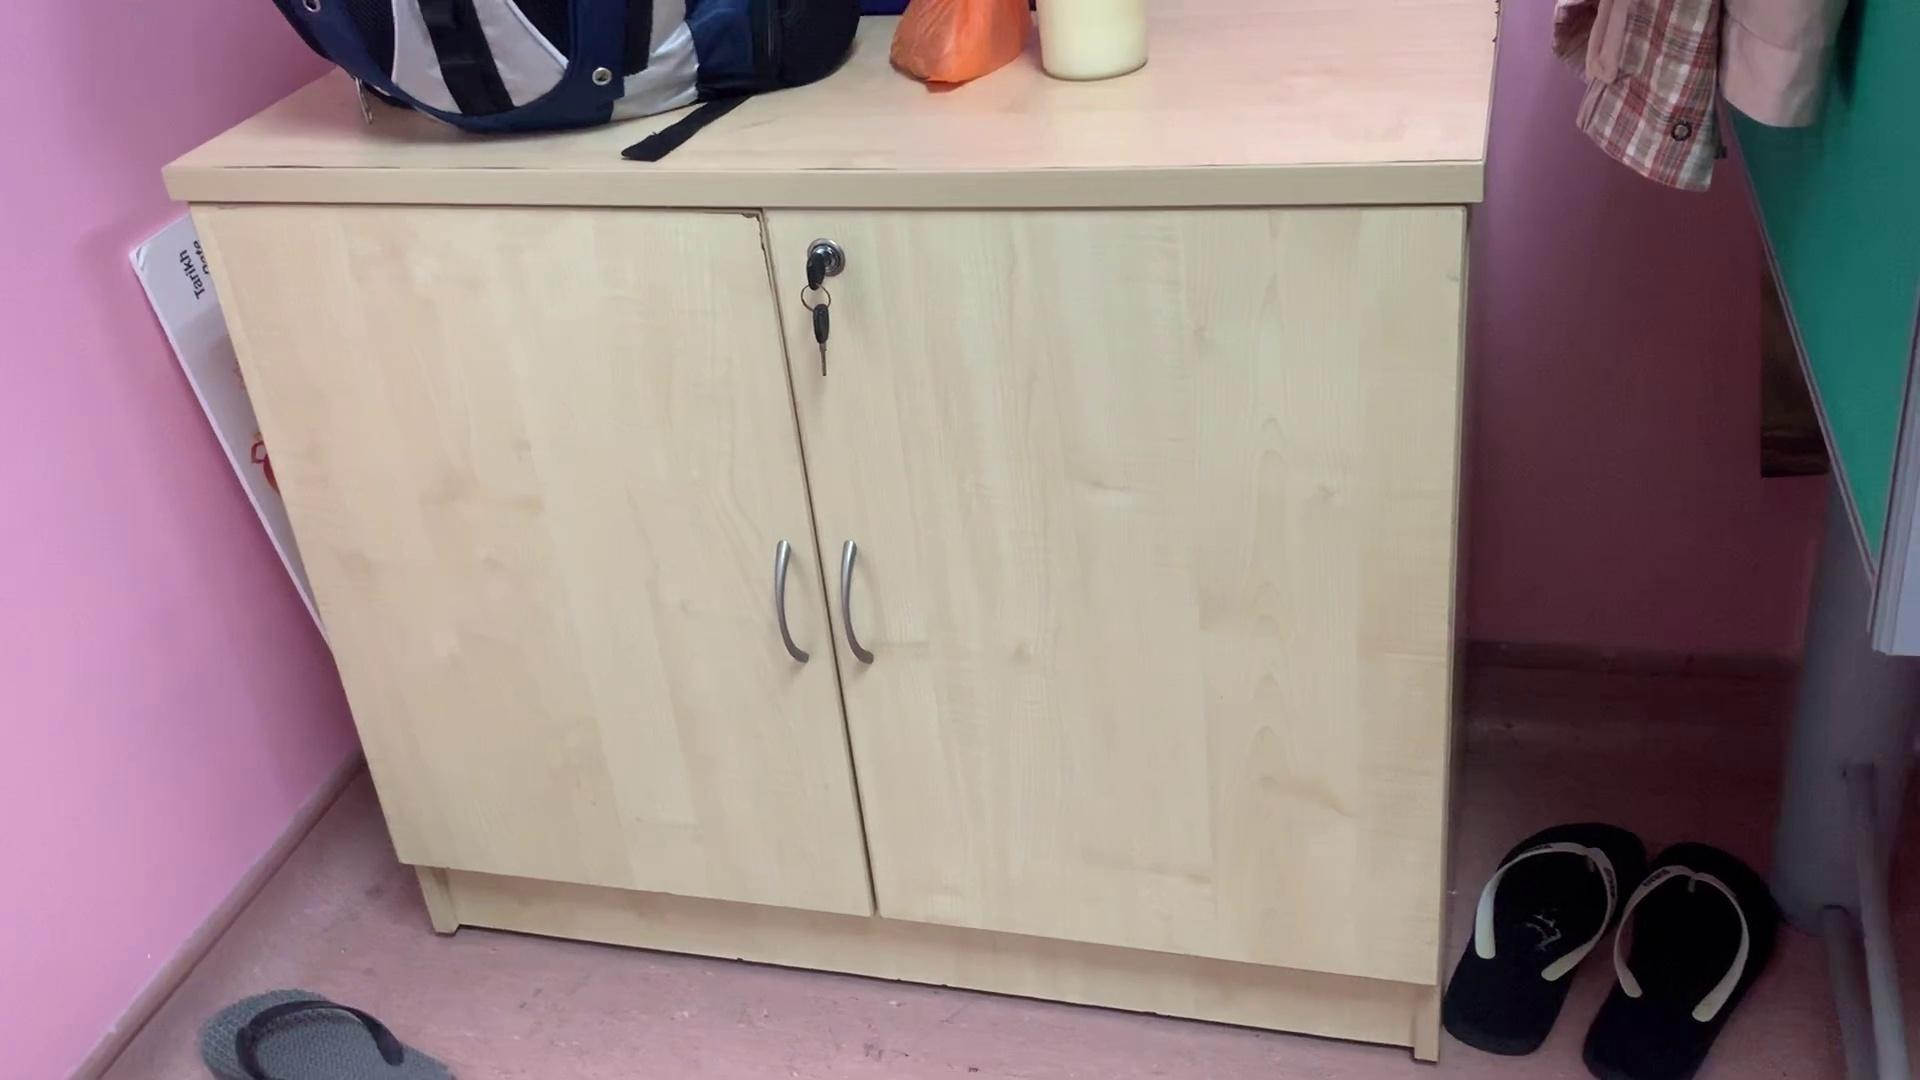cabinet_door: (816, 207, 1435, 932), (347, 206, 823, 877)
handle: (831, 538, 876, 671), (764, 538, 808, 669)
